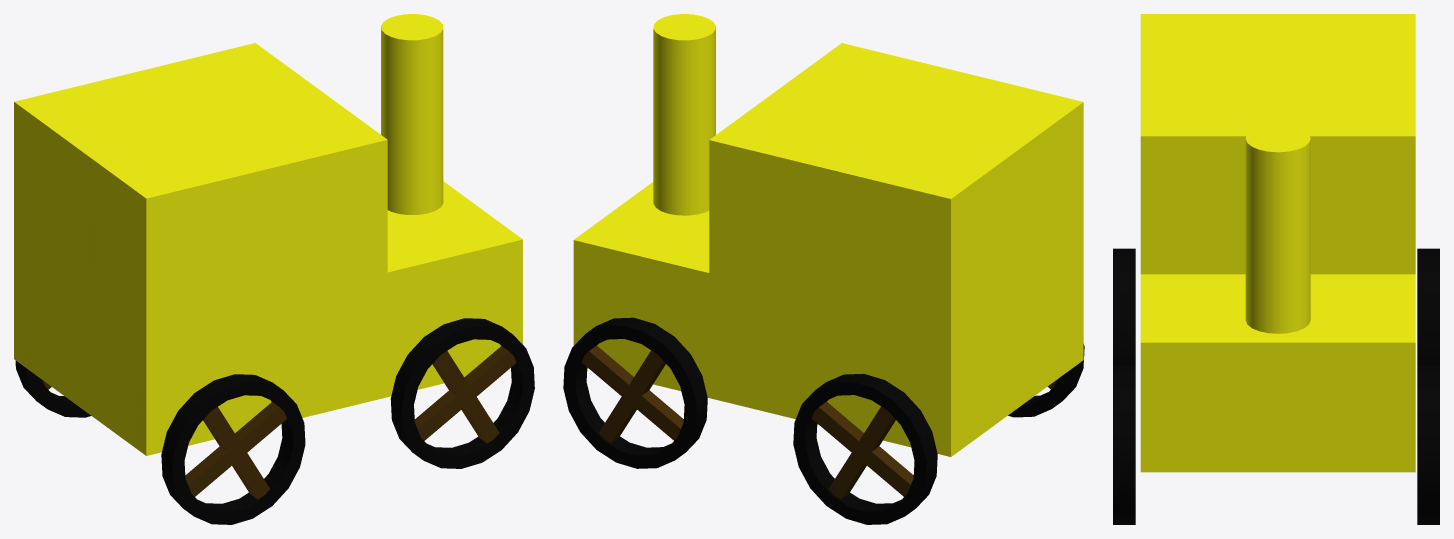
The model's file is train4.fbx.
The picture shows the model from 3 angles, left to right: view 1: azimuth 30°, elevation 25°; view 2: azimuth 150°, elevation 25°; view 3: azimuth 270°, elevation 25°; orthographic projection. The views are drawn at different scales.
Visible parts, largest first — view 1: pCube3, pCube4, wheel, wheel1, pCylinder1, wheel2; view 2: pCube3, pCube4, wheel3, wheel2, pCylinder1, wheel1; view 3: pCube3, pCube4, pCylinder1, wheel, wheel3, wheel1, wheel2.
Part boxes in pixels (x1=…): pCube3: x1=14, y1=43, x2=387, y2=455; pCube4: x1=387, y1=181, x2=522, y2=397; wheel: x1=390, y1=318, x2=534, y2=468; wheel1: x1=161, y1=374, x2=305, y2=524; pCylinder1: x1=381, y1=14, x2=443, y2=214; wheel2: x1=15, y1=360, x2=90, y2=417; pCube3: x1=709, y1=43, x2=1083, y2=456; pCube4: x1=573, y1=182, x2=709, y2=397; wheel3: x1=563, y1=317, x2=707, y2=468; wheel2: x1=793, y1=373, x2=937, y2=524; pCylinder1: x1=653, y1=14, x2=715, y2=215; wheel1: x1=1008, y1=344, x2=1084, y2=417; pCube3: x1=1140, y1=14, x2=1415, y2=274; pCube4: x1=1140, y1=274, x2=1415, y2=472; pCylinder1: x1=1245, y1=124, x2=1310, y2=333; wheel: x1=1113, y1=365, x2=1135, y2=524; wheel3: x1=1417, y1=365, x2=1439, y2=524; wheel1: x1=1113, y1=248, x2=1135, y2=364; wheel2: x1=1417, y1=248, x2=1439, y2=364.
Bounding box in the file's own units: 2.88 × 2.75 × 2.08.
